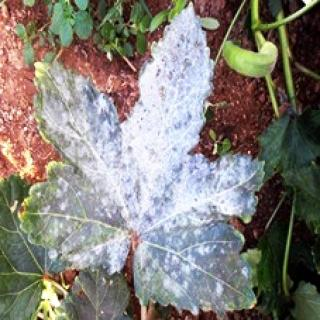grey mildew: (35, 19, 264, 297)
